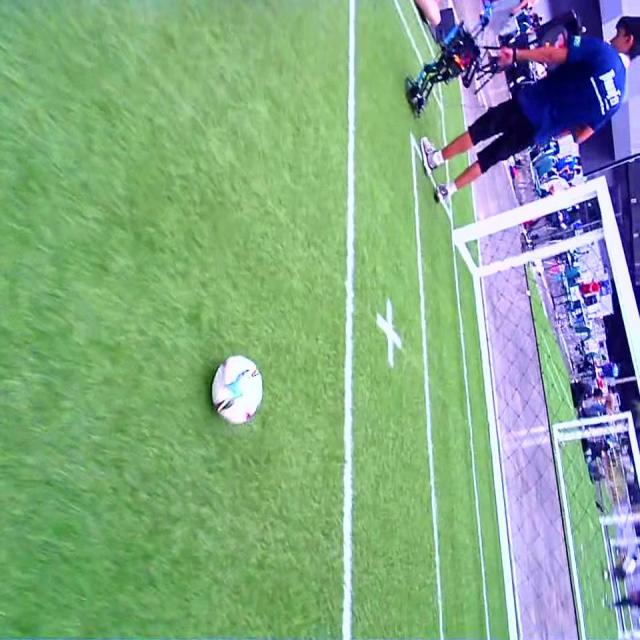ball: (212, 354, 263, 425)
